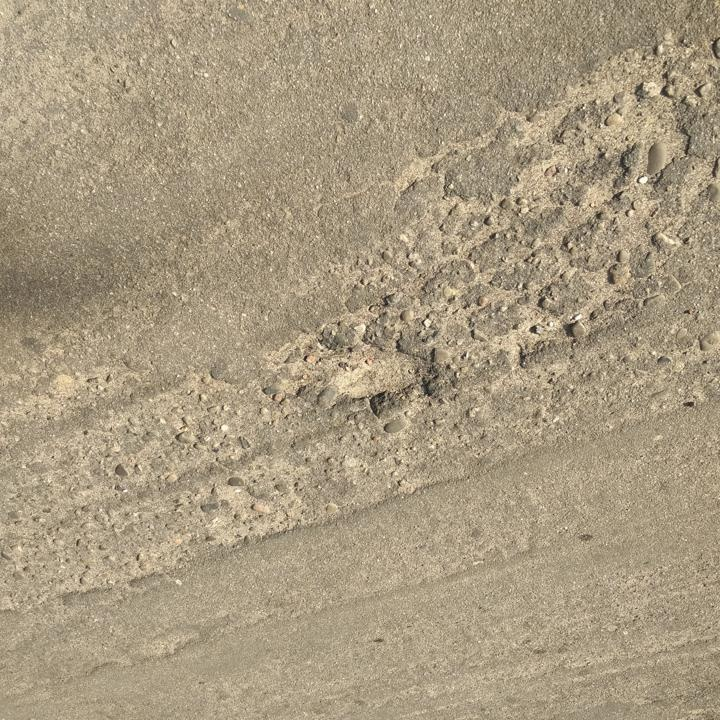pothole: (322, 351, 437, 408)
